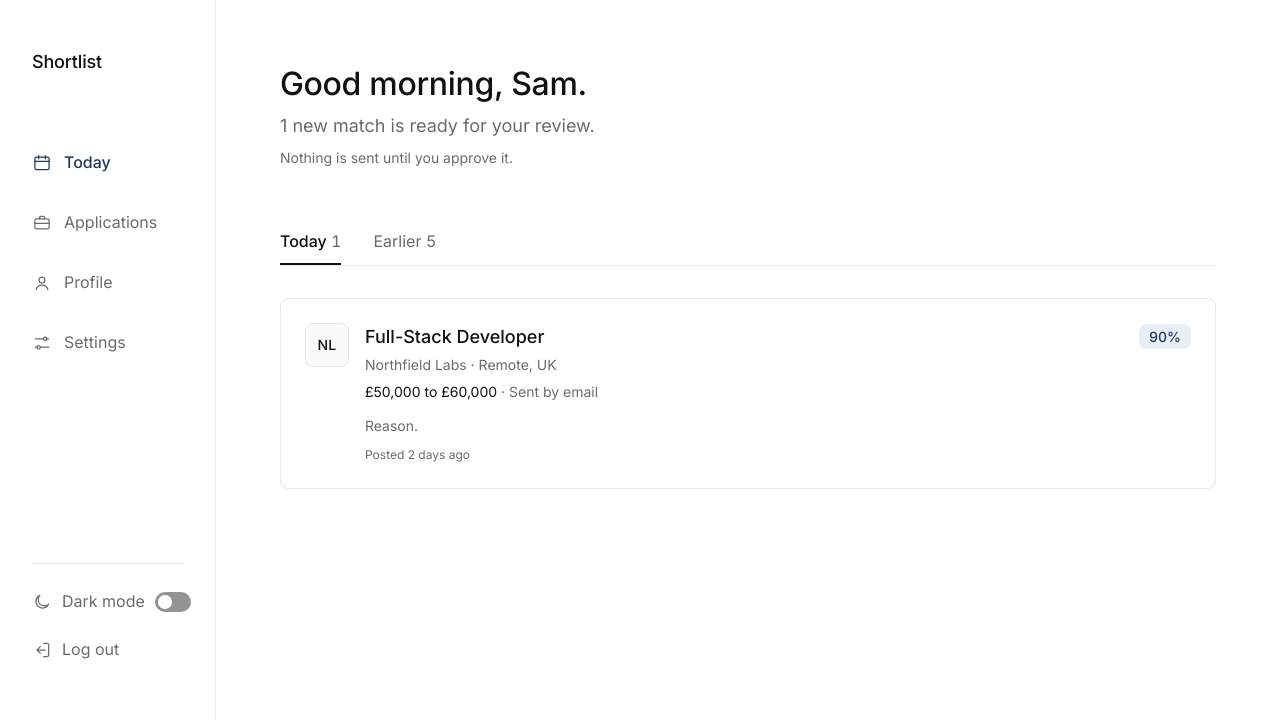
Test: Earlier tab › filters by status, with counts, and recovers from an empty filter
Step 1. Click the tab "Earlier 5" → (405, 241), box [373,217,436,265]
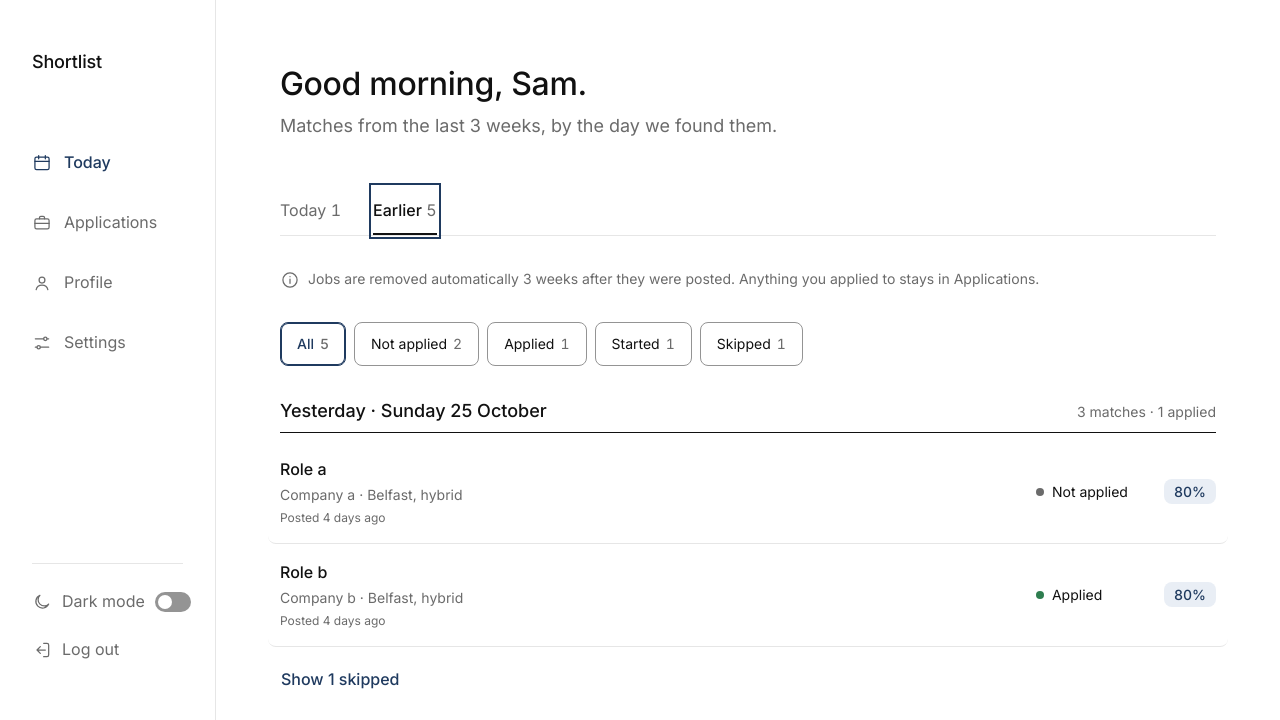
Check: the text "Matches from the last 3 weeks, by the day we found them." is shown, box [280,115,777,136]
Step 2. Click the button "Started 1" → (643, 344), box [594,322,692,366]
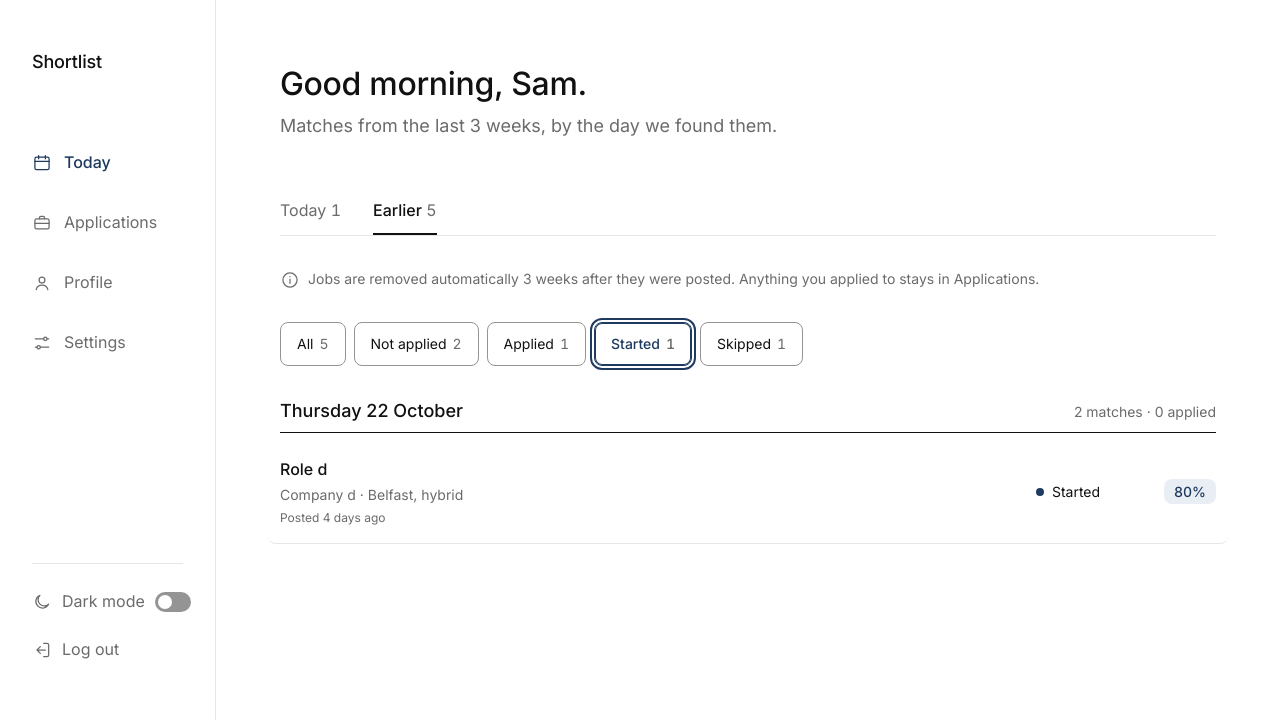
Check: the text "Role d" is shown, box [280,459,327,479]
Check: the link "Role a" is gone
Check: the heading "Sunday 25 October" is gone
Step 3. Click the button "Skipped 1" → (752, 344), box [700,322,803,366]
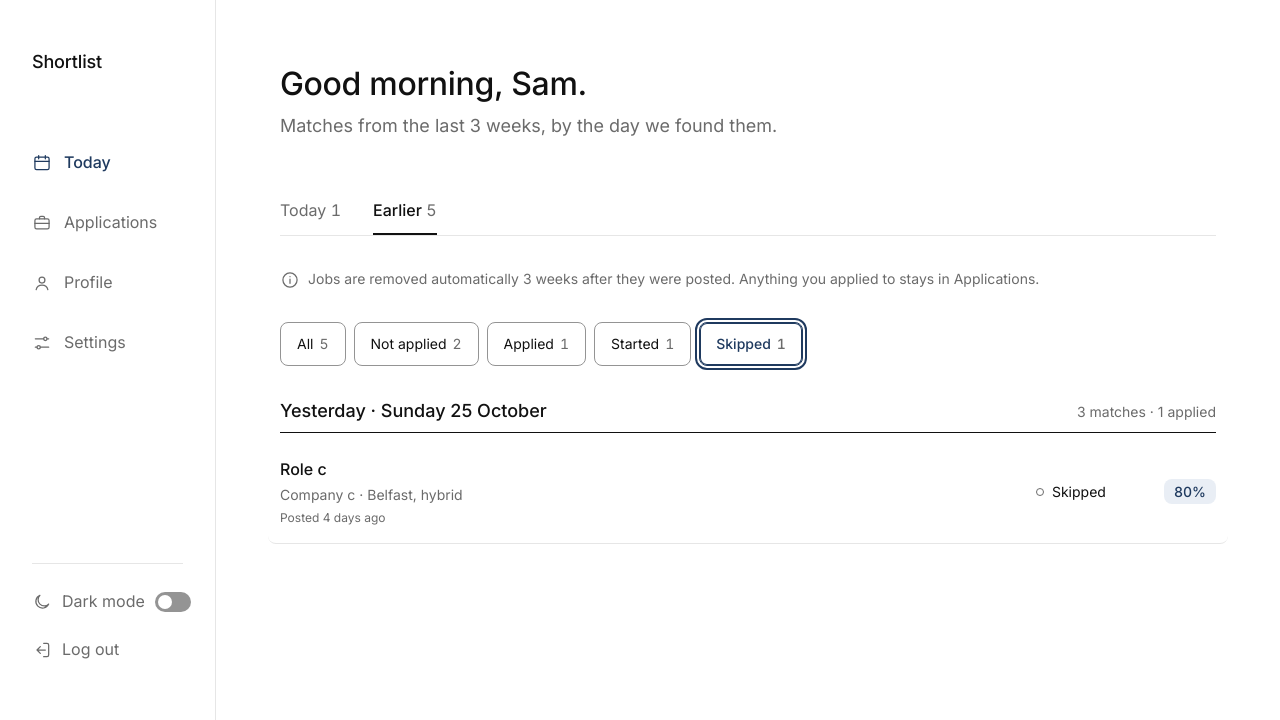
Check: the text "Role c" is shown, box [280,459,327,479]
